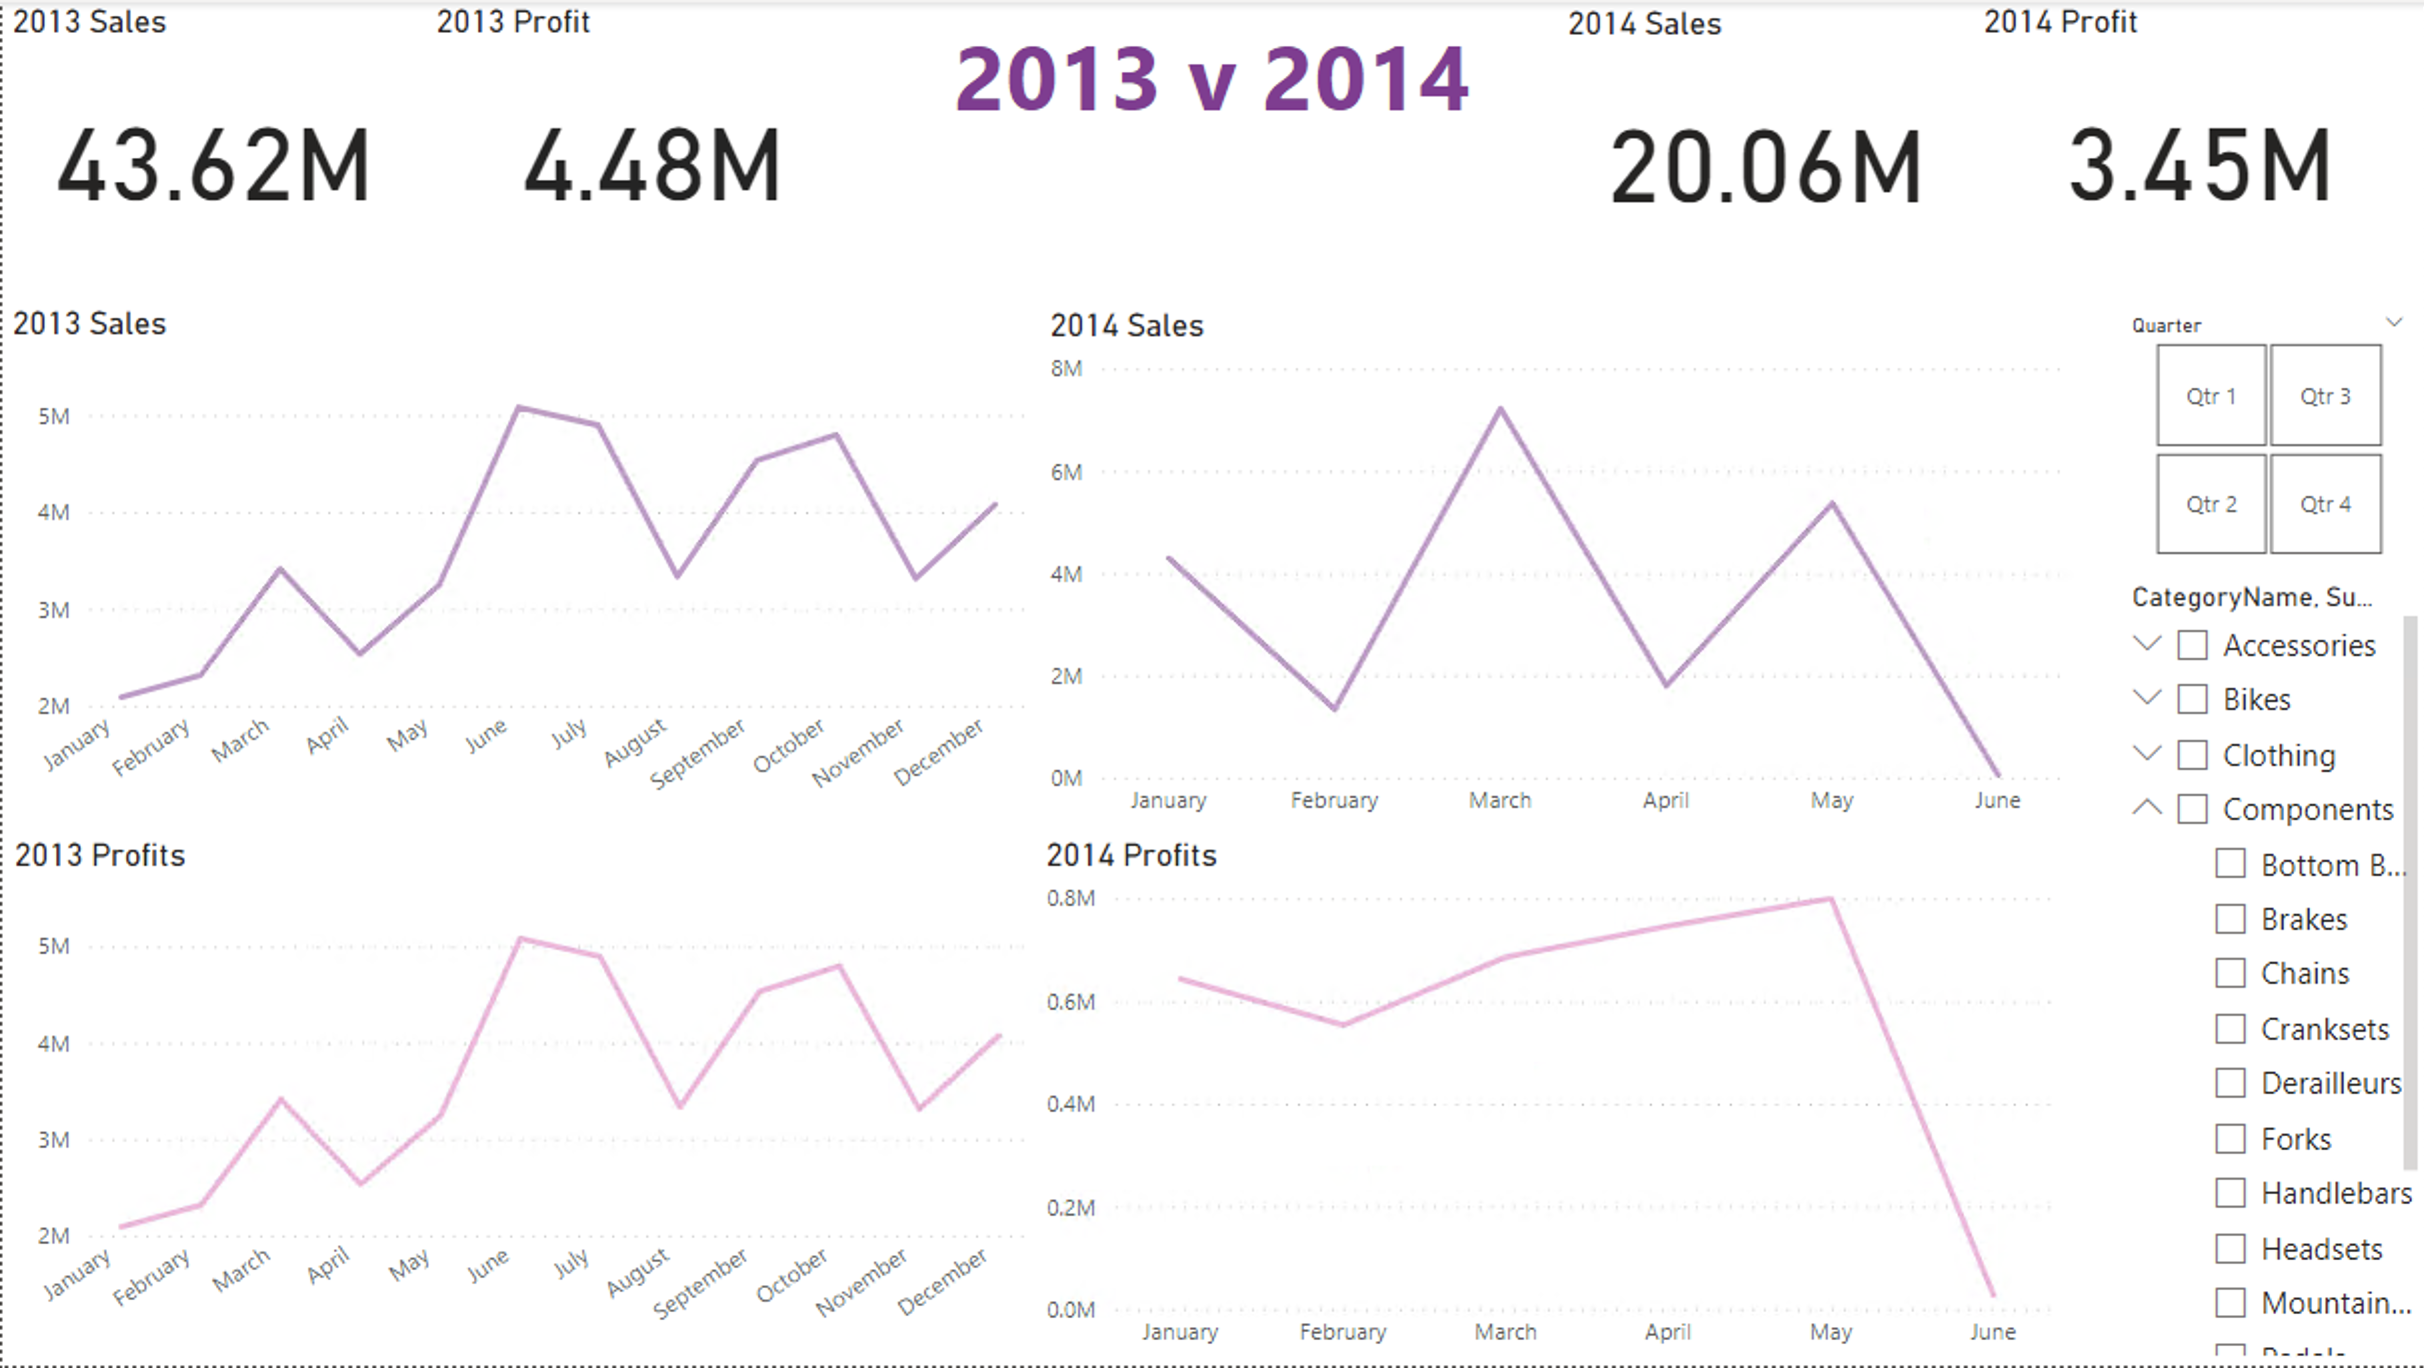

Layout of this report page (visuals, bound fields, positions):
{"tool":"powerbi","page":{"name":"PY Comparison","canvas":[1280,720],"ordinal":3},"visuals":[{"type":"lineChart","title":"2013 Sales","fields":{"Category":["Data.SaleDate.Variation.Date Hierarchy.Month"],"Y":["Sum(Data.TotalSale)"]},"box":[0,159.5,545.7,280.3],"z":0},{"type":"lineChart","title":"2014 Sales","fields":{"Category":["Data.SaleDate.Variation.Date Hierarchy.Month"],"Y":["Sum(Data.TotalSale)"]},"box":[548,160.6,545.7,279.1],"z":1000},{"type":"actionButton","box":[0,0,100,40],"z":2000},{"type":"lineChart","title":"2013 Profits","fields":{"Category":["Data.SaleDate.Variation.Date Hierarchy.Month"],"Y":["Sum(Data.TotalSale)"]},"box":[0.9,439.9,546.9,279.2],"z":3000},{"type":"lineChart","title":"2014 Profits","fields":{"Category":["Data.SaleDate.Variation.Date Hierarchy.Month"],"Y":["Sum(Data.Profit)"]},"box":[545.7,439.7,544.6,280.3],"z":4000},{"type":"slicer","fields":{"Values":["Data.SaleDate.Variation.Date Hierarchy.Quarter"]},"box":[1111.9,159.5,168.6,139],"z":5000},{"type":"slicer","fields":{"Values":["Data.CategoryName","Data.SubCategoryName"]},"box":[1111.9,300.8,168.6,419.2],"z":6000},{"type":"kpi","title":"2013 Sales","fields":{"TrendLine":["Data.SaleDate.Variation.Date Hierarchy.Year"],"Indicator":["Sum(Data.TotalSale)"]},"box":[0,0,223.3,159.5],"z":7000},{"type":"kpi","title":"2014 Profit","fields":{"Indicator":["Sum(Data.Profit)"],"TrendLine":["Data.SaleDate.Variation.Date Hierarchy.Year"]},"box":[1041.3,0,239.2,160.6],"z":8000},{"type":"textbox","box":[462.8,0,353.1,79],"z":9000},{"type":"kpi","title":"2014 Sales","fields":{"TrendLine":["Data.SaleDate.Variation.Date Hierarchy.Year"],"Indicator":["Sum(Data.TotalSale)"]},"box":[821.4,1.1,219.9,159.5],"z":10000},{"type":"kpi","title":"2013 Profit","fields":{"Indicator":["Sum(Data.Profit)"],"TrendLine":["Data.SaleDate.Variation.Date Hierarchy.Year"]},"box":[223.3,0,239.2,160.6],"z":11000}]}

Visuals, with their boxes in screenshot pixels (x1, y1, x2, y2), scaled from the page's 1280x720 canvas onto the 2424x1368 screenshot:
"2013 Sales" lineChart: select_region(0, 303, 1033, 836)
"2014 Sales" lineChart: select_region(1038, 305, 2071, 835)
actionButton: select_region(0, 0, 189, 76)
"2013 Profits" lineChart: select_region(2, 836, 1037, 1366)
"2014 Profits" lineChart: select_region(1033, 835, 2065, 1367)
slicer - Data.SaleDate.Variation.Date Hierarchy.Quarter: select_region(2106, 303, 2423, 567)
slicer - Data.CategoryName x Data.SubCategoryName: select_region(2106, 572, 2423, 1367)
"2013 Sales" kpi: select_region(0, 0, 423, 303)
"2014 Profit" kpi: select_region(1972, 0, 2423, 305)
textbox: select_region(876, 0, 1545, 150)
"2014 Sales" kpi: select_region(1556, 2, 1972, 305)
"2013 Profit" kpi: select_region(423, 0, 876, 305)
